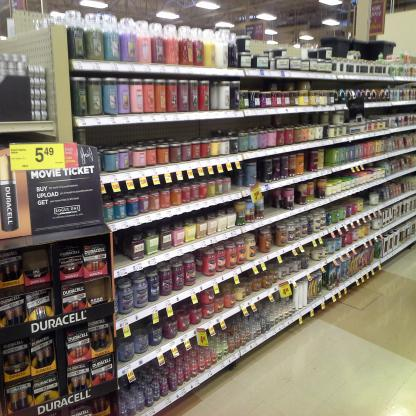Void: (90, 127, 205, 138), (112, 235, 128, 263), (23, 251, 46, 264), (242, 79, 269, 90), (266, 193, 275, 214), (89, 282, 104, 293)
